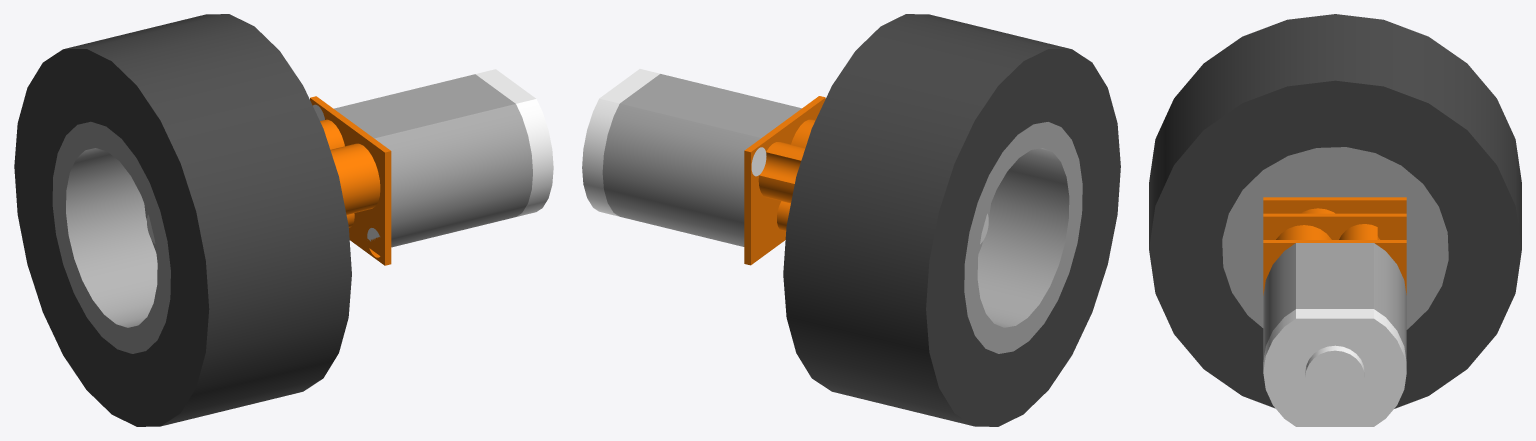
The model's file is MotorAndWheel.fbx.
3 views of the same model, side by side, from view 1: azimuth 30°, elevation 25°; view 2: azimuth 150°, elevation 25°; view 3: azimuth 270°, elevation 25° (orthographic). The views are drawn at different scales.
Visible parts, largest first — view 1: Solarbotics_1_1_4__Wheel__External_Setscrew1, Component_2_1, Pololu_MicroMetal_Gearmotor1; view 2: Solarbotics_1_1_4__Wheel__External_Setscrew1, Component_2_1, Pololu_MicroMetal_Gearmotor1; view 3: Solarbotics_1_1_4__Wheel__External_Setscrew1, Component_2_1, Pololu_MicroMetal_Gearmotor1.
Boxes of the visible parts, x1,y1,x2,y2 form: Solarbotics_1_1_4__Wheel__External_Setscrew1: (14,14,351,426); Component_2_1: (334,69,553,247); Pololu_MicroMetal_Gearmotor1: (147,96,391,265); Solarbotics_1_1_4__Wheel__External_Setscrew1: (783,14,1120,426); Component_2_1: (582,69,801,246); Pololu_MicroMetal_Gearmotor1: (744,96,988,265); Solarbotics_1_1_4__Wheel__External_Setscrew1: (1149,14,1521,408); Component_2_1: (1263,243,1406,426); Pololu_MicroMetal_Gearmotor1: (1263,197,1406,295).
Bounding box in the file's own units: 38.33 × 31.2 × 31.2.
